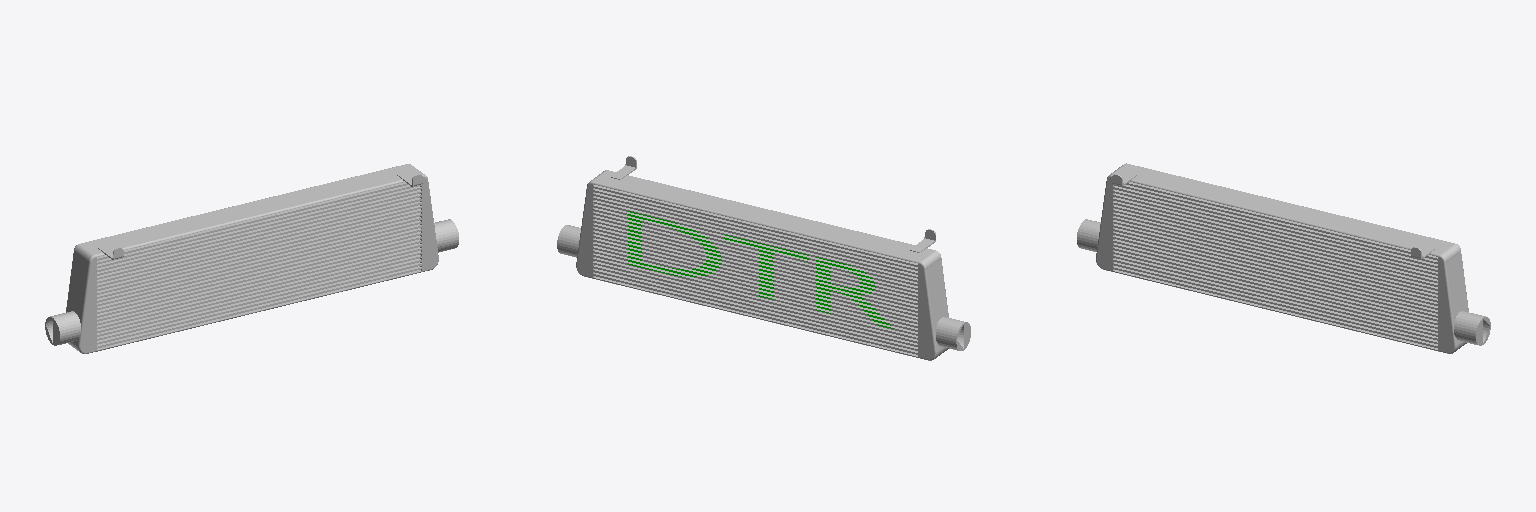
The model's file is intercooler.obj.
The picture shows the model from 3 angles: view 1: azimuth 30°, elevation 25°; view 2: azimuth 150°, elevation 25°; view 3: azimuth 330°, elevation 25°; orthographic projection.
Visible parts, largest first — view 1: Intercooler___Intercooler.002, Intercooler-Outlet_Cylinder.004, Intercooler-Inlet_Cylinder.005; view 2: Intercooler___Intercooler.002, Intercooler-CompanyText_Text.002, Intercooler-Outlet_Cylinder.004, Intercooler-Inlet_Cylinder.005; view 3: Intercooler___Intercooler.002, Intercooler-Inlet_Cylinder.005, Intercooler-Outlet_Cylinder.004.
Part boxes in pixels (bbox=[...]): Intercooler___Intercooler.002: bbox=[66, 164, 438, 353]; Intercooler-Outlet_Cylinder.004: bbox=[45, 311, 80, 345]; Intercooler-Inlet_Cylinder.005: bbox=[434, 219, 458, 252]; Intercooler___Intercooler.002: bbox=[576, 170, 948, 360]; Intercooler-CompanyText_Text.002: bbox=[628, 211, 893, 328]; Intercooler-Outlet_Cylinder.004: bbox=[936, 317, 970, 350]; Intercooler-Inlet_Cylinder.005: bbox=[557, 225, 580, 257]; Intercooler___Intercooler.002: bbox=[1096, 163, 1468, 353]; Intercooler-Inlet_Cylinder.005: bbox=[1454, 311, 1490, 345]; Intercooler-Outlet_Cylinder.004: bbox=[1077, 219, 1100, 251].
Bounding box in the file's own units: 0.6138 × 0.1578 × 0.0687.